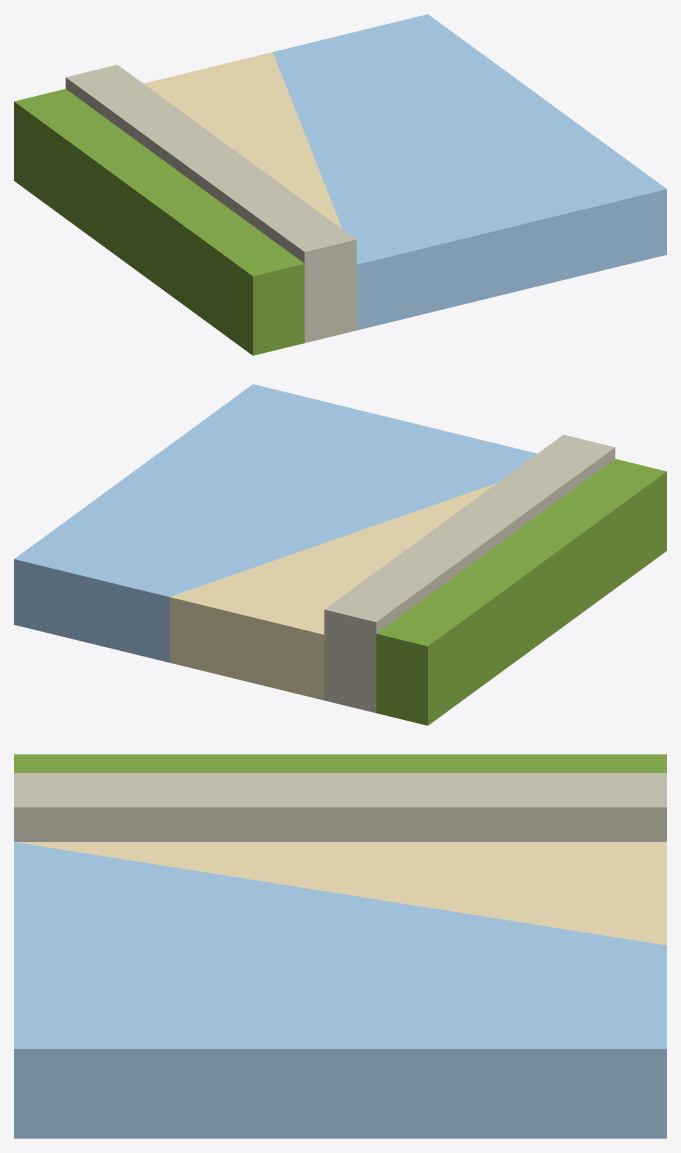
The model's file is tile134.dae.
3 renders of one model, top to bottom at view 1: azimuth 30°, elevation 25°; view 2: azimuth 150°, elevation 25°; view 3: azimuth 270°, elevation 25°, orthographic. The views are drawn at different scales.
Visible parts, largest first — view 1: tile134; view 2: tile134; view 3: tile134.
Boxes of the visible parts, bbox=[...] form: tile134: bbox=[14, 14, 666, 355]; tile134: bbox=[14, 384, 666, 725]; tile134: bbox=[14, 754, 666, 1138].
Size of the model in its own units: 1 by 0.21 by 1.
